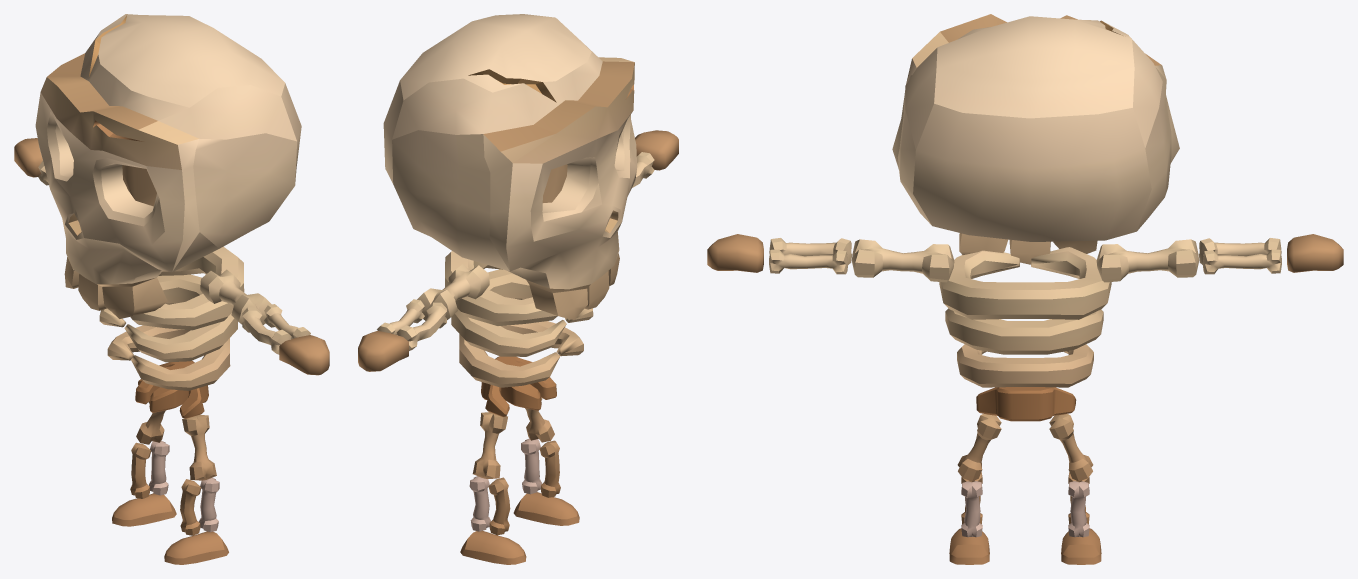
File: Skeleton.obj
The picture shows the model from 3 angles, left to right: view 1: azimuth 30°, elevation 25°; view 2: azimuth 150°, elevation 25°; view 3: azimuth 270°, elevation 25°; orthographic projection. The views are drawn at different scales.
Visible parts, largest first — view 1: Head, Skeleton_Graveyard, spine1, spine2, upper_arm.L, shin.R, shin.L, forearm.L, hand.L, foot.L, foot.R, thigh.L (+2 smaller); view 2: Head, Skeleton_Graveyard, spine1, spine2, upper_arm.R, shin.R, shin.L, forearm.R, hand.R, foot.R, foot.L, thigh.R (+3 smaller); view 3: Head, spine1, Skeleton_Graveyard, spine2, upper_arm.L, upper_arm.R, forearm.L, forearm.R, hand.L, hand.R, thigh.L, thigh.R (+4 smaller).
Part boxes in pixels (x1,y1,x2,y2): Head: (35, 14, 301, 318); Skeleton_Graveyard: (35, 14, 296, 318); spine1: (99, 246, 244, 390); spine2: (135, 361, 208, 418); upper_arm.L: (200, 269, 271, 324); shin.R: (130, 440, 169, 498); shin.L: (180, 477, 219, 535); forearm.L: (242, 304, 310, 354); hand.L: (279, 335, 329, 375); foot.L: (164, 531, 228, 564); foot.R: (112, 493, 176, 526); thigh.L: (182, 414, 216, 480); Head: (383, 14, 637, 319); Skeleton_Graveyard: (392, 24, 636, 320); spine1: (445, 251, 593, 387); spine2: (481, 356, 556, 416); upper_arm.R: (417, 264, 489, 320); shin.R: (469, 476, 510, 535); shin.L: (521, 438, 560, 497); forearm.R: (377, 299, 446, 350); hand.R: (358, 331, 408, 371); foot.R: (460, 530, 526, 564); foot.L: (513, 492, 579, 525); thigh.R: (472, 412, 507, 478); Head: (892, 14, 1179, 264); spine1: (939, 247, 1111, 387); Skeleton_Graveyard: (892, 19, 1179, 254); spine2: (976, 387, 1076, 421); upper_arm.L: (852, 239, 954, 282); upper_arm.R: (1096, 239, 1198, 282); forearm.L: (769, 238, 851, 274); forearm.R: (1199, 238, 1281, 274); hand.L: (707, 234, 763, 272); hand.R: (1287, 234, 1343, 272); thigh.L: (957, 414, 1001, 481); thigh.R: (1049, 414, 1093, 481).
Bounding box in the file's own units: 0.4204 × 0.9819 × 1.07.
